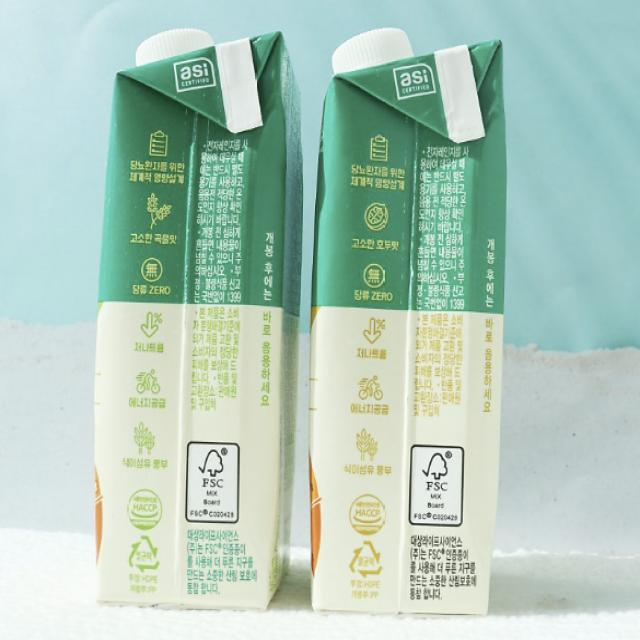SterilizedPack: (344, 537, 385, 579), (125, 532, 162, 572)
